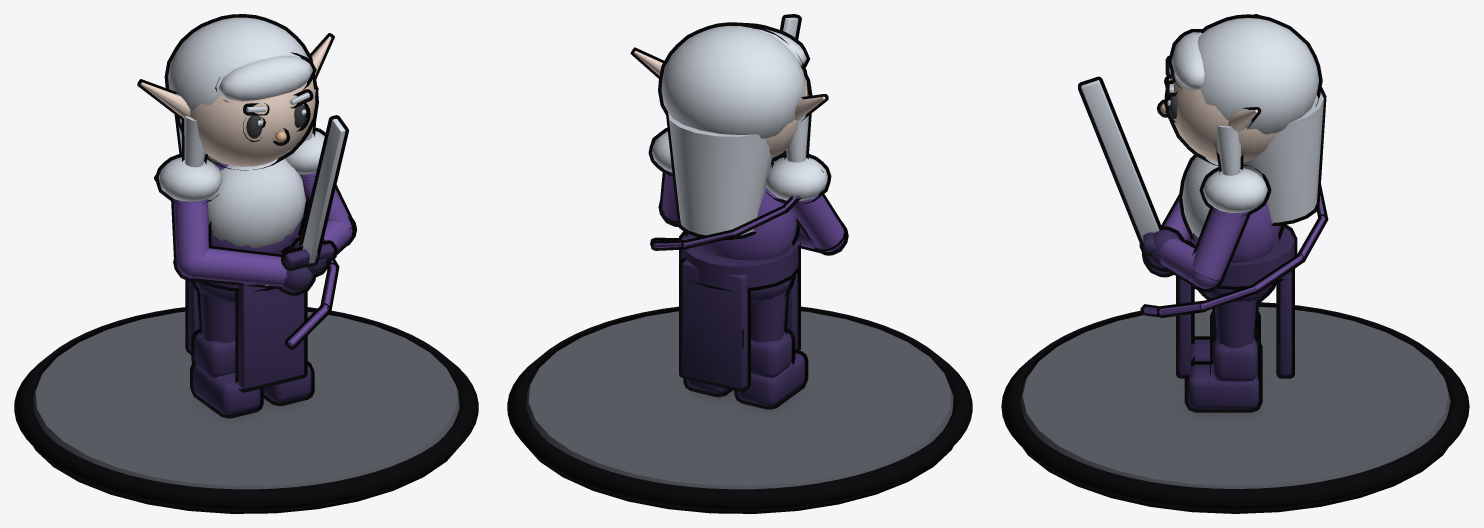
File: blade_singer.fbx
The picture shows the model from 3 angles, left to right: view 1: azimuth 30°, elevation 25°; view 2: azimuth 150°, elevation 25°; view 3: azimuth 270°, elevation 25°; orthographic projection.
Parts seen in each view (by area): view 1: blade_singer; view 2: blade_singer; view 3: blade_singer.
Boxes of the visible parts, x1,y1,x2,y2 form: blade_singer: [14, 14, 478, 513]; blade_singer: [507, 14, 972, 513]; blade_singer: [1001, 14, 1469, 513].
Bounding box in the file's own units: 1.58 × 1.48 × 1.58.
2 materials, 1 textured.
